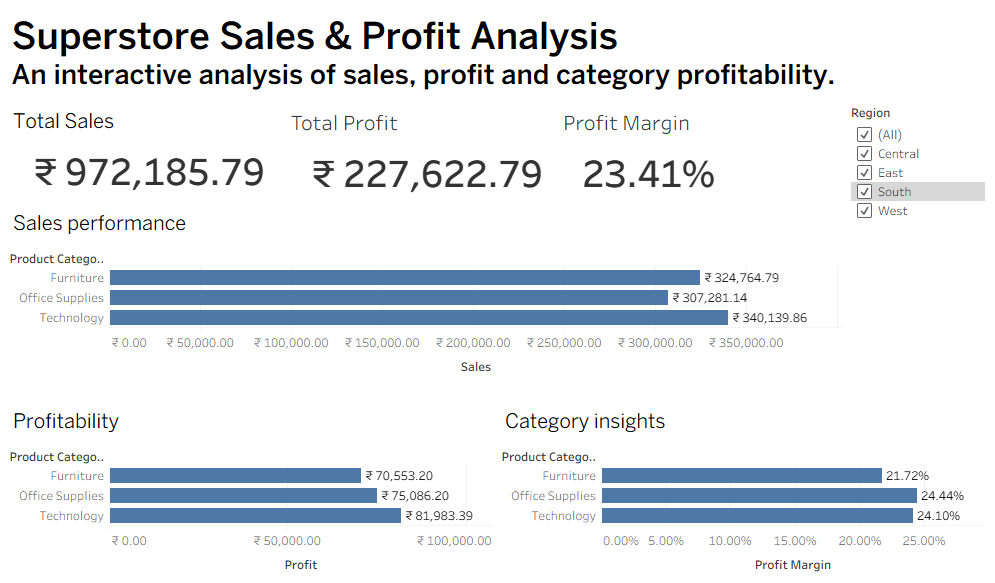

What the dashboard file says about the page in this screenshot:
{"tool":"tableau","page":{"name":"Dashboard 1","canvas":[1000,800],"ordinal":0},"visuals":[{"type":"text","box":[8,8,984,94]},{"type":"worksheet","title":"Total Sales","mark":"Text","box":[8,102,278.1,102.2]},{"type":"worksheet","title":"Total Profit","mark":"Automatic","box":[286.1,102,272.1,102.2]},{"type":"worksheet","title":"Profit Margin","mark":"Automatic","box":[558.1,102,291.9,102.2]},{"type":"filter","title":"Sales performance","param":"[federated.09a1yf21u76hqz11v56da0cq0n6h].[none:Region:nk]","box":[850,102,142,134]},{"type":"worksheet","title":"Sales performance","mark":"Automatic","rows":["Product Category"],"cols":["Sales"],"box":[8,204.2,842,197.8]},{"type":"worksheet","title":"Profitability","mark":"Automatic","rows":["Product Category"],"cols":["Profit"],"box":[8,402,492,390]},{"type":"worksheet","title":"Category insights","mark":"Automatic","rows":["Product Category"],"cols":["Calculation_1284565015891968"],"box":[500,402,492,390]}]}

Visuals, with their boxes on the page's 1000x800 design canvas (x1, y1, x2, y2). These are canvas units, not pixel positions in the 995x583 screenshot, which may show the page scaled, cropped or inside an application window:
text: locate(8, 8, 992, 102)
"Total Sales" worksheet (Text marks): locate(8, 102, 286, 204)
"Total Profit" worksheet: locate(286, 102, 558, 204)
"Profit Margin" worksheet: locate(558, 102, 850, 204)
"Sales performance" filter: locate(850, 102, 992, 236)
"Sales performance" worksheet: locate(8, 204, 850, 402)
"Profitability" worksheet: locate(8, 402, 500, 792)
"Category insights" worksheet: locate(500, 402, 992, 792)
